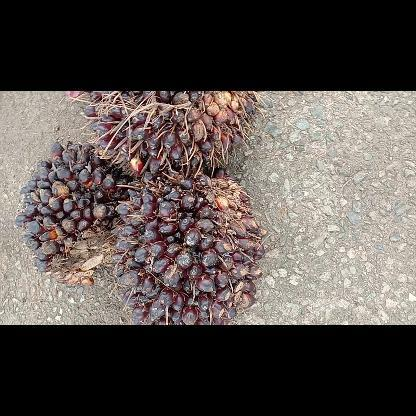TBS mentah: (115, 176, 267, 324), (13, 139, 128, 283), (83, 91, 256, 173)
